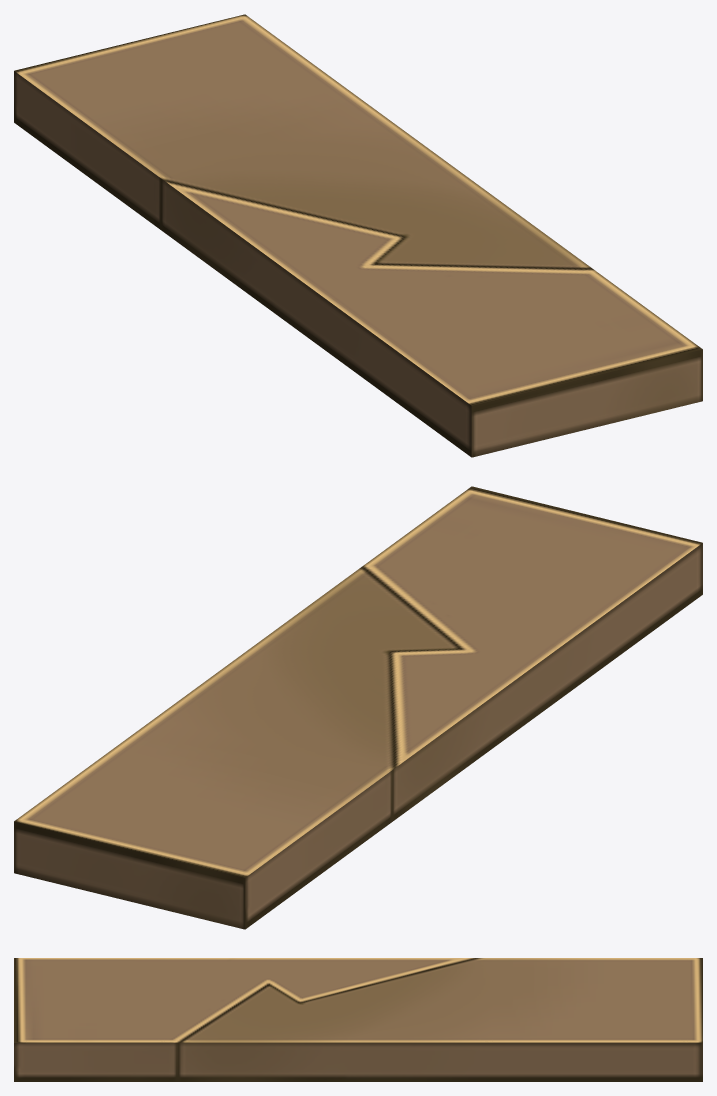
Rendered from egypt_thinpath1.gltf.
3 renders of one model, top to bottom at view 1: azimuth 30°, elevation 25°; view 2: azimuth 150°, elevation 25°; view 3: azimuth 270°, elevation 25°, orthographic. The views are drawn at different scales.
Parts seen in each view (by area): view 1: egypt_thinpath1_glb; view 2: egypt_thinpath1_glb; view 3: egypt_thinpath1_glb.
Boxes of the visible parts, left/top/right/bottom form: egypt_thinpath1_glb: left=14, top=14, right=702, bottom=457; egypt_thinpath1_glb: left=14, top=486, right=702, bottom=929; egypt_thinpath1_glb: left=14, top=958, right=702, bottom=1081.
Size of what is drawn, in the model's own units: 1.17 by 0.25 by 4.
Materials: 1 (1 with a texture image).
